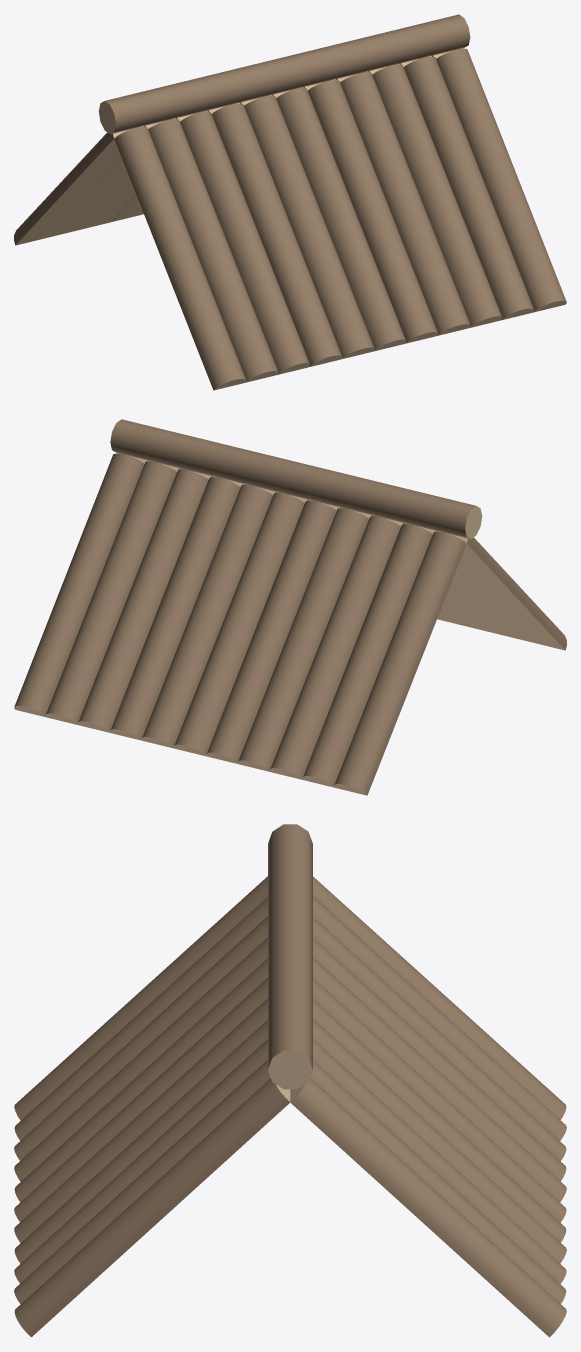
File: log_roof_ridge_steep.glb
The picture shows the model from 3 angles, top to bottom: view 1: azimuth 30°, elevation 25°; view 2: azimuth 150°, elevation 25°; view 3: azimuth 270°, elevation 25°; orthographic projection. The views are drawn at different scales.
Visible parts, largest first — view 1: Roof; view 2: Roof; view 3: Roof.
Boxes of the visible parts, <box> form: Roof: <box>14,14,566,390</box>; Roof: <box>14,419,566,795</box>; Roof: <box>14,824,566,1337</box>.
Bounding box in the file's own units: 3.14 × 1.81 × 3.2.
